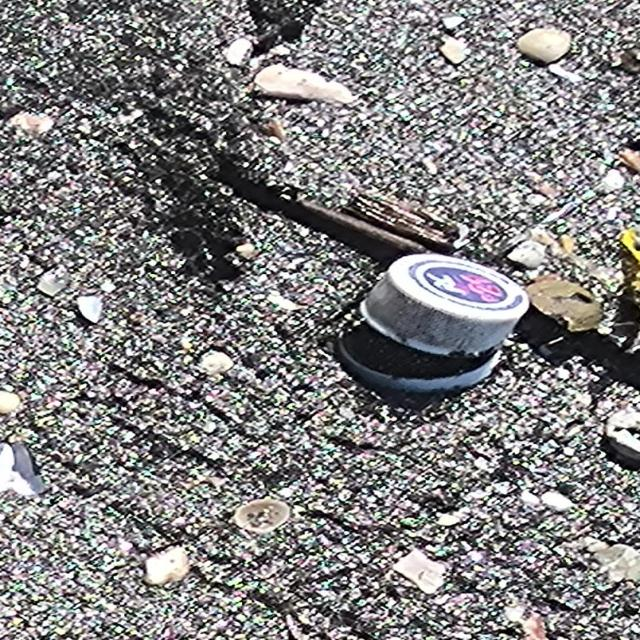litter: (358, 251, 530, 357)
